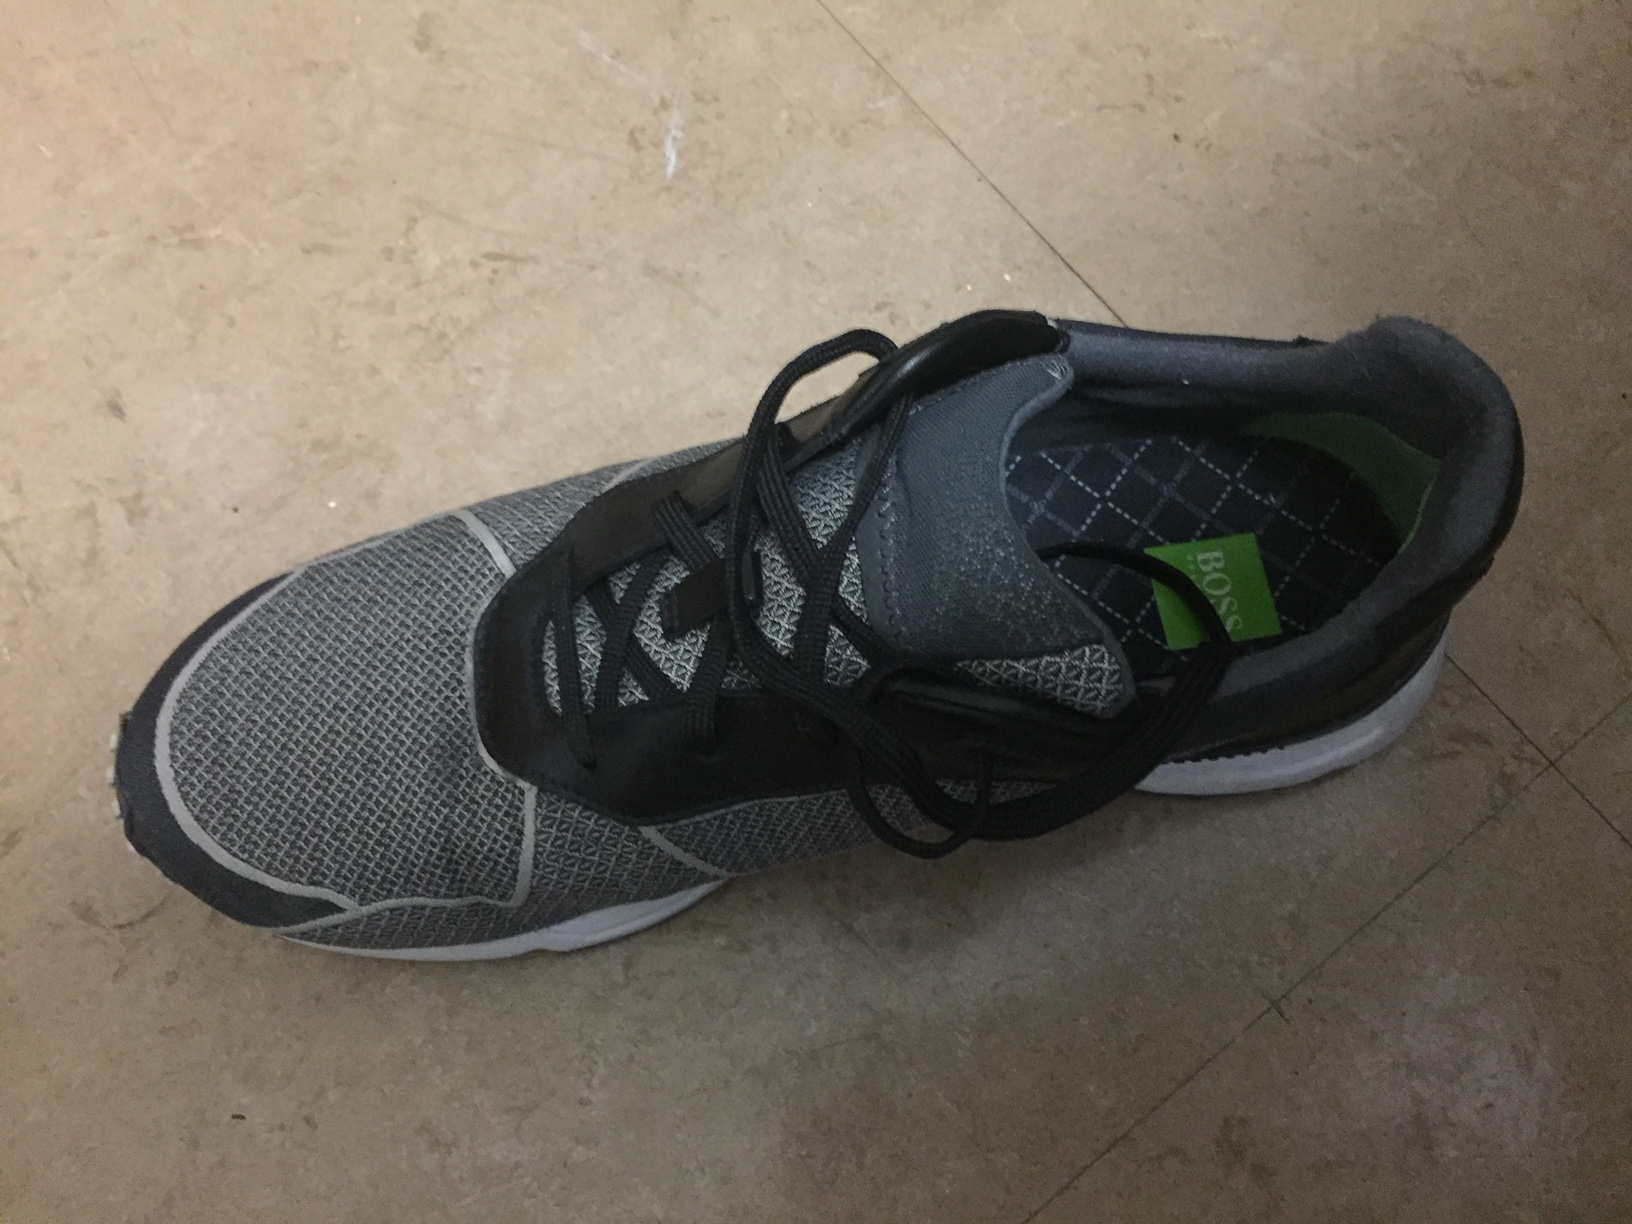car: (102, 297, 1543, 982)
